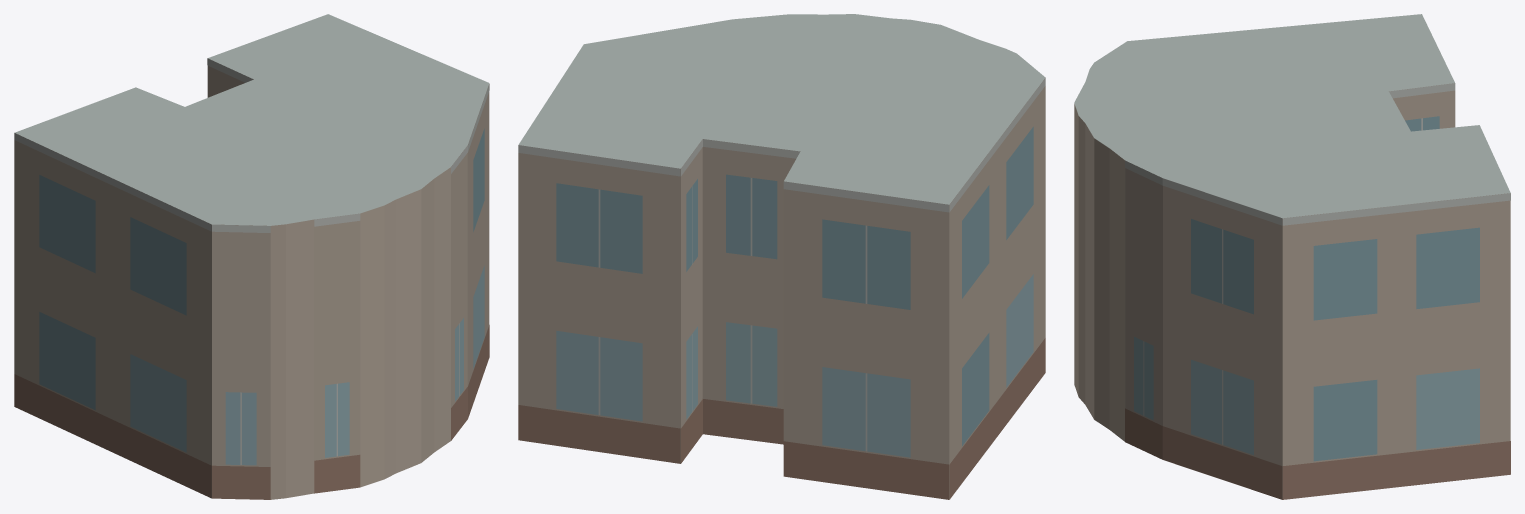
File: survey-upis-32974269.glb
3 renders of one model, left to right at view 1: azimuth 30°, elevation 25°; view 2: azimuth 150°, elevation 25°; view 3: azimuth 270°, elevation 25°, orthographic. The views are drawn at different scales.
Parts seen in each view (by area): view 1: survey-upis-32974269.tmp; view 2: survey-upis-32974269.tmp; view 3: survey-upis-32974269.tmp.
Part boxes in pixels (bbox=[...]): survey-upis-32974269.tmp: bbox=[14, 14, 489, 499]; survey-upis-32974269.tmp: bbox=[518, 14, 1045, 499]; survey-upis-32974269.tmp: bbox=[1074, 14, 1510, 499].
Size of the model in its own units: 14.32 by 9.2 by 12.94.
